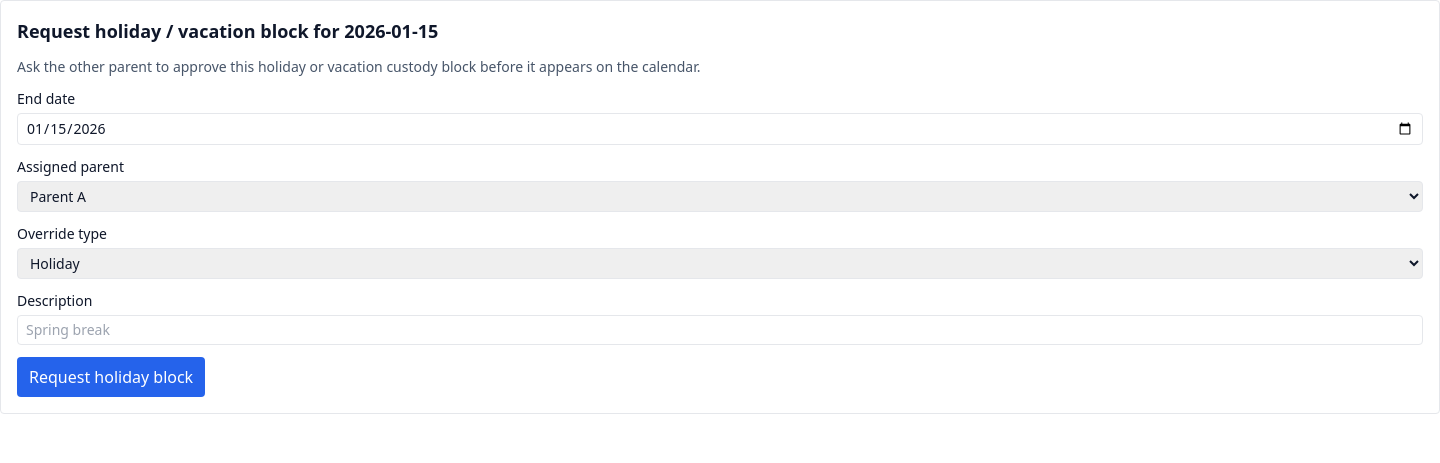
Test: OverrideForm › shows a soft notice when the other parent opted out of SMS
In the field labelled "Description": x=720, y=330 [17,315,1423,345], type "Holiday"
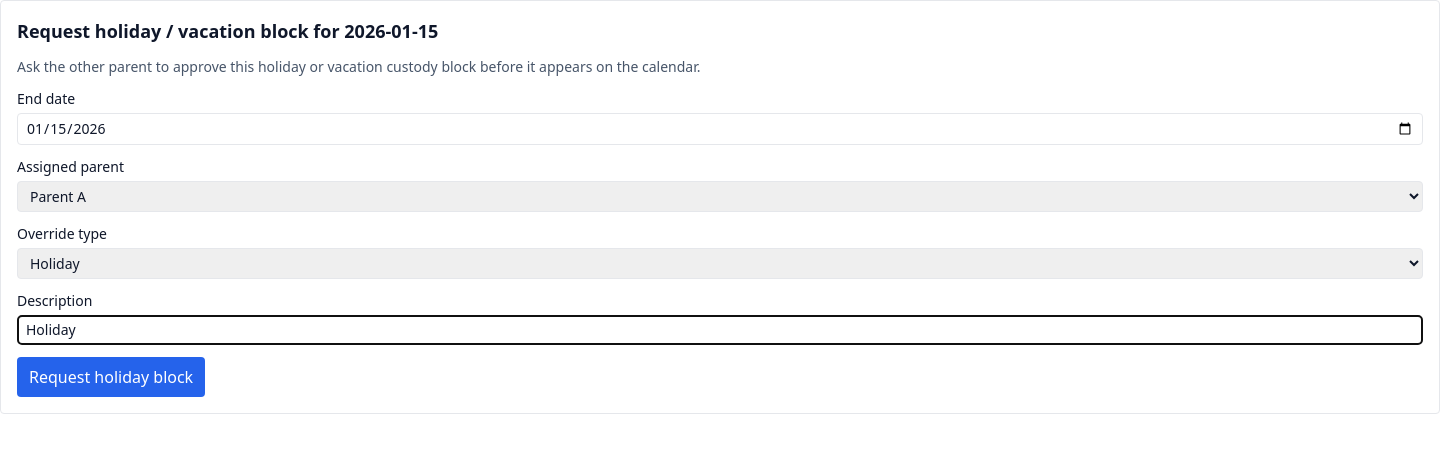
Click the button "Request holiday block": x=111, y=377 [17,357,205,397]
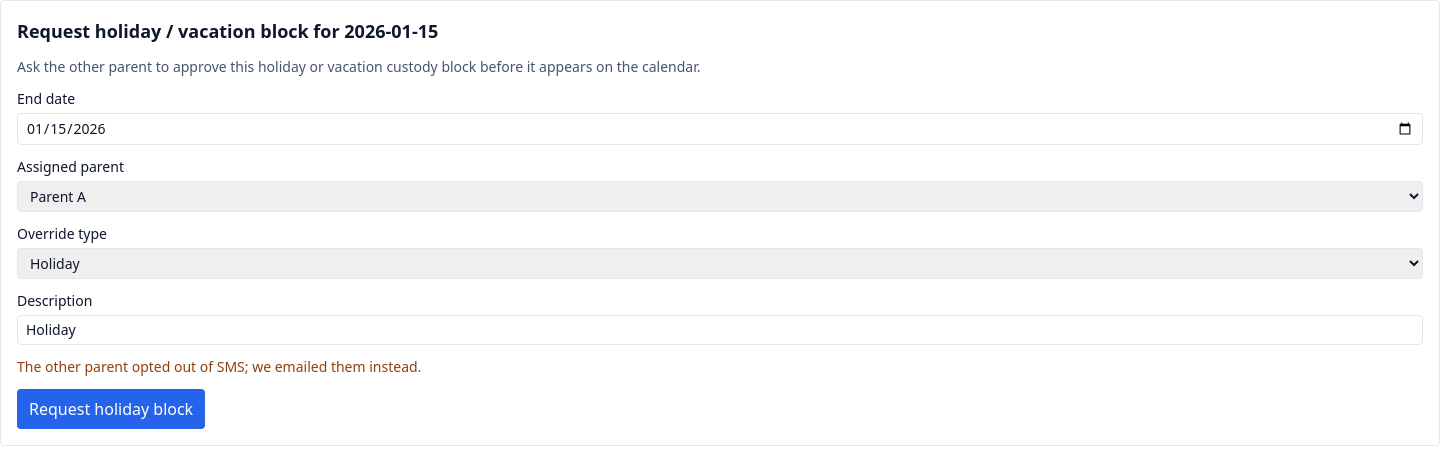
Now the text "The other parent opted out of SMS; we emailed them instead." is shown, box [17,357,421,376]
